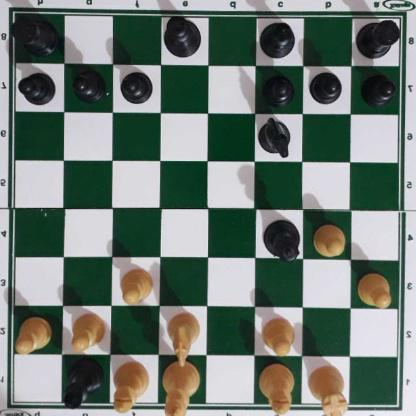black-bishop: (63, 356, 105, 410), (258, 22, 299, 59)
black-king: (163, 13, 204, 58)
black-knight: (258, 116, 293, 159)
black-pawn: (20, 69, 56, 105), (121, 68, 154, 103), (362, 72, 396, 104), (73, 67, 105, 100), (312, 70, 343, 104), (264, 71, 294, 105)
black-queen: (265, 219, 302, 261)
black-rook: (14, 9, 58, 54), (357, 16, 404, 58)
white-bishop: (258, 363, 296, 416), (112, 361, 150, 413)
white-king: (163, 358, 201, 416)
white-knight: (166, 311, 201, 368)
white-pawn: (70, 311, 107, 351), (15, 315, 53, 352), (262, 315, 297, 354), (313, 221, 350, 257), (358, 271, 394, 307), (121, 265, 155, 303)
white-rook: (308, 363, 350, 416)
